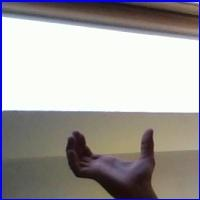space: (54, 124, 165, 196)
